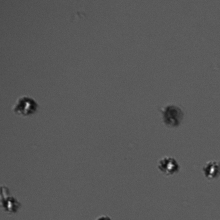Dead Cell: (161, 104, 183, 126)
Living Cell: (14, 94, 38, 117), (158, 155, 179, 175), (2, 196, 20, 213), (203, 159, 218, 178)
